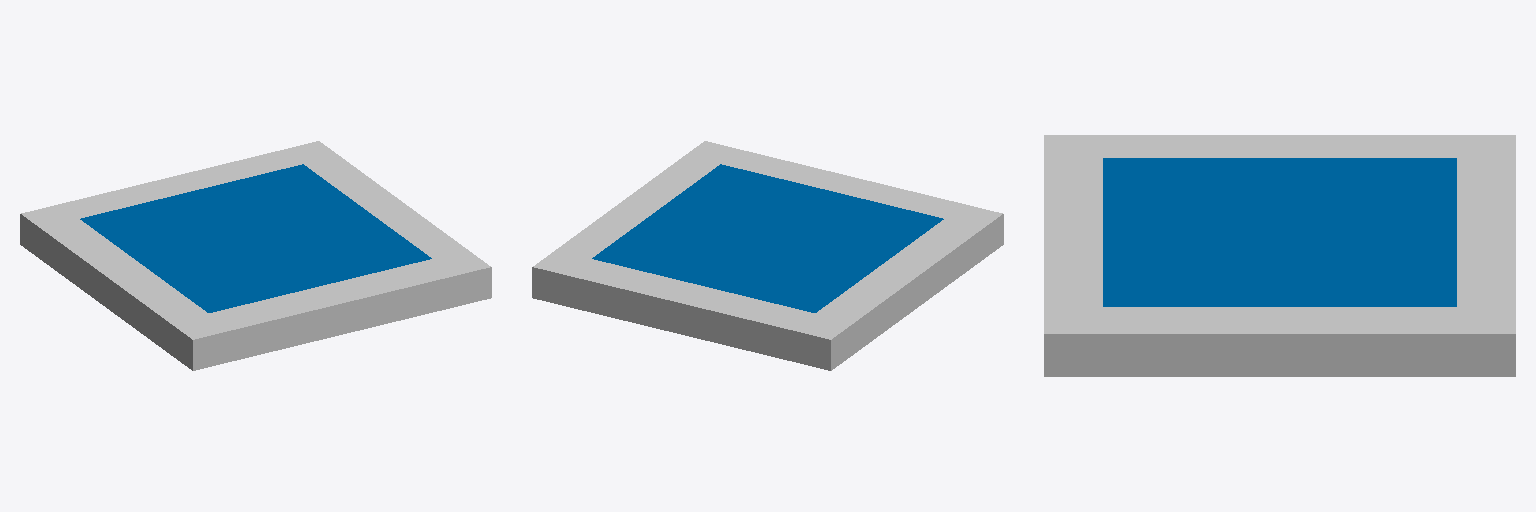
URDF robot description (CheckersTable):
?<?xml version="1.0" encoding="utf-8"?>
<robot name="CheckersTable">
  <material name="mat_Table">
    <color rgba="0.8396 0.8396 0.8396 1" />
  </material>
  <material name="mat_CheckersBoard">
    <texture filename="resources/tex_Chessboard.png" />
  </material>
  <link name="base_link">
    <inertial>
      <origin rpy="0 0 0" xyz="0 0 0" />
      <mass value="1" />
      <inertia ixx="1" ixy="0" ixz="0" iyy="1" iyz="0" izz="1" />
    </inertial>
  </link>
  <link name="Table">
    <inertial>
      <origin rpy="0 0 0" xyz="0 0 0" />
      <mass value="1" />
      <inertia ixx="1" ixy="0" ixz="0" iyy="1" iyz="0" izz="1" />
    </inertial>
  </link>
  <link name="Leg">
    <inertial>
      <origin rpy="0 0 0" xyz="0 0 0" />
      <mass value="1" />
      <inertia ixx="1" ixy="0" ixz="0" iyy="1" iyz="0" izz="1" />
    </inertial>
    <visual>
      <origin xyz="0 0 0.5" />
      <geometry>
        <mesh filename="meshes/TableLeg.stl" scale="0.1 0.1 1" />
      </geometry>
      <material name="mat_Table" />
    </visual>
    <collision>
      <origin xyz="0 0 0.5" />
      <geometry>
        <mesh filename="meshes/TableLeg.stl" scale="0.1 0.1 1" />
      </geometry>
    </collision>
  </link>
  <link name="Top">
    <inertial>
      <origin rpy="0 0 0" xyz="0 0 0" />
      <mass value="1" />
      <inertia ixx="1" ixy="0" ixz="0" iyy="1" iyz="0" izz="1" />
    </inertial>
    <visual>
      <origin xyz="0 0 1" />
      <geometry>
        <mesh filename="meshes/TableTop.stl" scale="1 1 0.1" />
      </geometry>
      <material name="mat_Table" />
    </visual>
    <collision>
      <origin xyz="0 0 1" />
      <geometry>
        <mesh filename="meshes/TableTop.stl" scale="1 1 0.1" />
      </geometry>
    </collision>
  </link>
  <link name="Gameboard">
    <inertial>
      <origin rpy="0 0 0" xyz="0 0 0" />
      <mass value="1" />
      <inertia ixx="1" ixy="0" ixz="0" iyy="1" iyz="0" izz="1" />
    </inertial>
    <visual>
      <origin xyz="0 0 1.055" />
      <geometry>
        <mesh filename="meshes/GameBoard.stl" scale="0.075 0.075 1" />
      </geometry>
      <material name="mat_CheckersBoard" />
    </visual>
    <collision>
      <origin xyz="0 0 1.055" />
      <geometry>
        <mesh filename="meshes/GameBoard.stl" scale="0.075 0.075 1" />
      </geometry>
    </collision>
  </link>
  <joint name="1" type="fixed">
    <parent link="base_link" />
    <child link="Table" />
  </joint>
  <joint name="2" type="fixed">
    <parent link="Table" />
    <child link="Leg" />
  </joint>
  <joint name="3" type="fixed">
    <parent link="Table" />
    <child link="Top" />
  </joint>
  <joint name="4" type="fixed">
    <parent link="base_link" />
    <child link="Gameboard" />
  </joint>
</robot>

--- What the picture shows (computed from the rendered views, not written in the file) ---
Views: 3 orthographic renders of the robot side by side, from view 1: azimuth 30°, elevation 25°; view 2: azimuth 150°, elevation 25°; view 3: azimuth 270°, elevation 25°.
Model CheckersTable with 5 links and 4 joints (4 fixed), rooted at base_link, posed every joint at zero.
Links seen in each view (by area): view 1: Top, Gameboard; view 2: Top, Gameboard; view 3: Top, Gameboard.
Boxes of the visible links, x1,y1,x2,y2 form: Top: (20, 141, 491, 370); Gameboard: (80, 164, 431, 312); Top: (532, 141, 1003, 370); Gameboard: (592, 164, 943, 312); Top: (1044, 135, 1515, 376); Gameboard: (1103, 158, 1456, 306).
Size in the robot's own frame: 1 by 1 by 0.105 metres.
Meshes: 3 distinct files referenced, 2 mesh visuals loaded (2 binary STL); not drawn: 1 (reference not matched to a file when rendering).